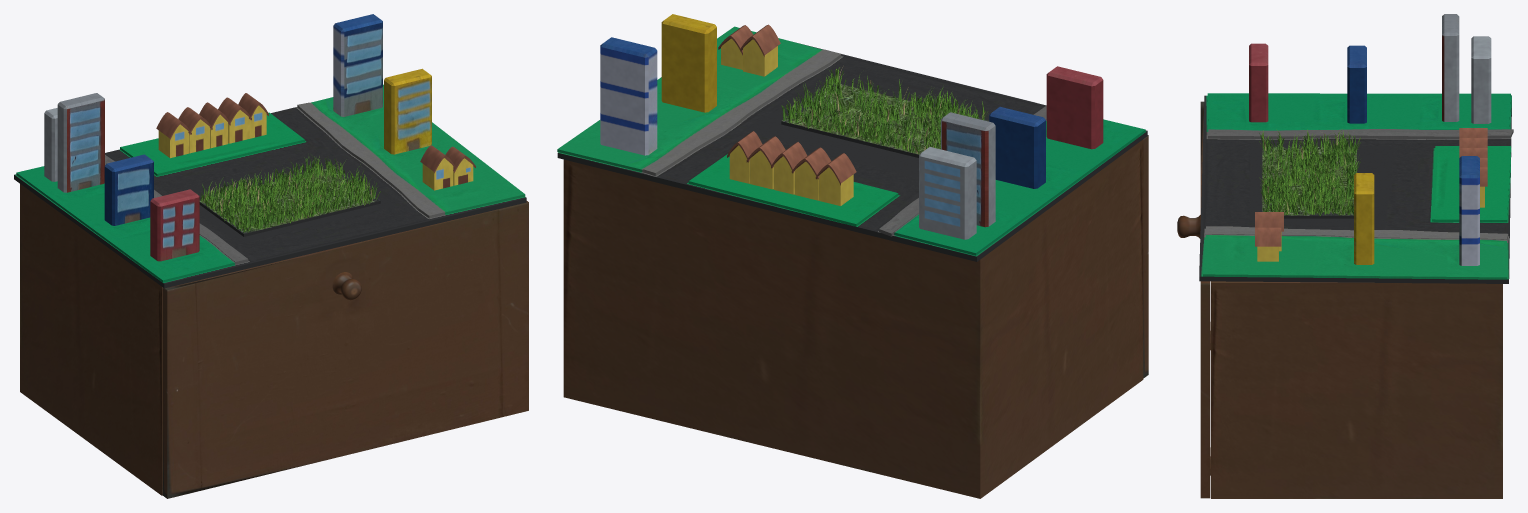
File: maquete_15_02_solo_urbano.glb
3 renders of one model, left to right at view 1: azimuth 30°, elevation 25°; view 2: azimuth 150°, elevation 25°; view 3: azimuth 270°, elevation 25°, orthographic. The views are drawn at different scales.
Visible parts, largest first — view 1: Painel_Tampa_M15U, Placas_EVA_M15U, Corpo_Caixa_M15U, Predios_M15U, Laminas_Praca_M15U, Casas_M15U, Grama_Praca_M15U, Puxador_M15U; view 2: Corpo_Caixa_M15U, Placas_EVA_M15U, Predios_M15U, Casas_M15U, Laminas_Praca_M15U, Grama_Praca_M15U, Painel_Tampa_M15U; view 3: Corpo_Caixa_M15U, Placas_EVA_M15U, Predios_M15U, Laminas_Praca_M15U, Painel_Tampa_M15U, Casas_M15U, Grama_Praca_M15U, Puxador_M15U.
Boxes of the visible parts, x1=… form: Painel_Tampa_M15U: x1=162, y1=201, x2=528, y2=498; Placas_EVA_M15U: x1=14, y1=84, x2=526, y2=288; Corpo_Caixa_M15U: x1=20, y1=184, x2=162, y2=495; Predios_M15U: x1=44, y1=14, x2=431, y2=261; Laminas_Praca_M15U: x1=197, y1=155, x2=380, y2=233; Casas_M15U: x1=156, y1=93, x2=475, y2=190; Grama_Praca_M15U: x1=199, y1=167, x2=380, y2=233; Puxador_M15U: x1=332, y1=272, x2=361, y2=300; Corpo_Caixa_M15U: x1=563, y1=139, x2=1143, y2=498; Placas_EVA_M15U: x1=557, y1=26, x2=1147, y2=261; Predios_M15U: x1=600, y1=14, x2=1103, y2=239; Casas_M15U: x1=718, y1=24, x2=856, y2=205; Laminas_Praca_M15U: x1=781, y1=67, x2=988, y2=154; Grama_Praca_M15U: x1=782, y1=83, x2=989, y2=154; Painel_Tampa_M15U: x1=1143, y1=135, x2=1148, y2=378; Corpo_Caixa_M15U: x1=1210, y1=281, x2=1502, y2=498; Placas_EVA_M15U: x1=1199, y1=93, x2=1513, y2=283; Predios_M15U: x1=1249, y1=14, x2=1491, y2=265; Laminas_Praca_M15U: x1=1259, y1=129, x2=1361, y2=215; Painel_Tampa_M15U: x1=1200, y1=101, x2=1210, y2=498; Casas_M15U: x1=1255, y1=128, x2=1487, y2=261; Grama_Praca_M15U: x1=1262, y1=146, x2=1356, y2=215; Puxador_M15U: x1=1177, y1=215, x2=1200, y2=238.
Size of the model in its own units: 0.5065 by 0.4005 by 0.3901.
Materials: 8 (8 with a texture image).
